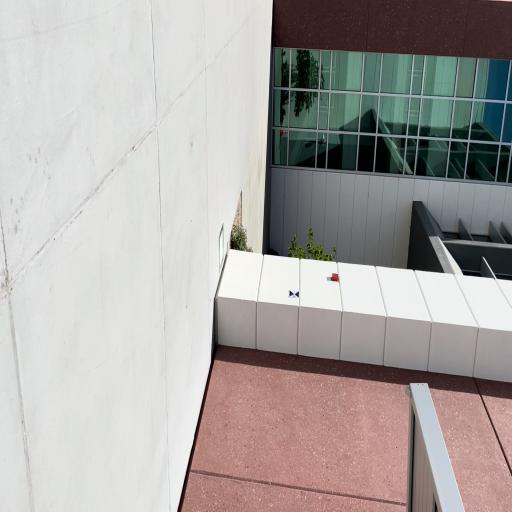target9: (289, 290, 299, 298)
